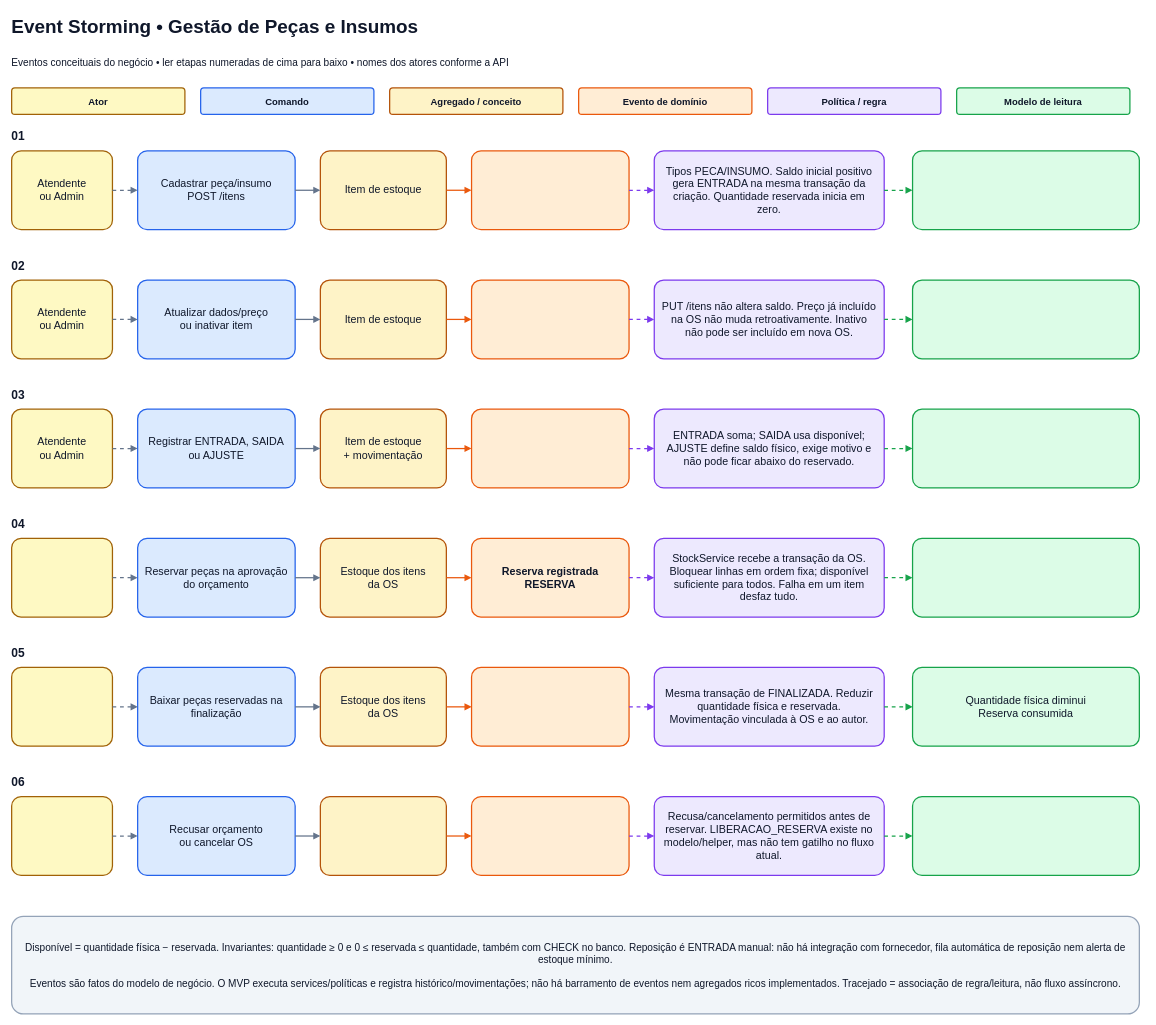
Image size: 1156x1025. Some labels were removed from this diagram. The centre of each missing label's shape, as x and y in pixels:
"Baixa registrada SAIDA" belongs at (550,707).
"Catálogo de itens ativos Histórico preservado" belongs at (1026,319).
"Catálogo de itens Saldo e disponível" belongs at (1026,190).
"Cliente/Admin antes da aprovação" belongs at (62,836).
"Dados/preço atualizados ou item inativado" belongs at (550,319).
"Item cadastrado Entrada inicial registrada, se > 0" belongs at (550,190).
"Movimentação registrada" belongs at (550,448).
"Ordem de Serviço" belongs at (383,836).
"OS encerrada sem movimentar estoque" belongs at (550,836).
"Quantidade física mantida Reservada aumenta" belongs at (1026,577).
"Saldo e movimentações GET /itens/{id}/stock-movements" belongs at (1026,448).
"Saldo permanece igual Sem estorno automático" belongs at (1026,836).
"Sistema por comando do cliente" belongs at (62,577).
"Sistema por conclusão da OS" belongs at (62,707).
